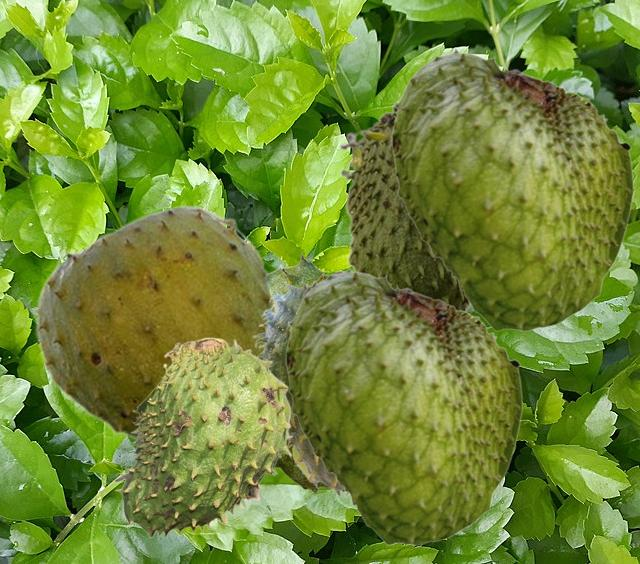guyabano: (391, 46, 633, 331), (285, 265, 522, 545), (30, 204, 274, 440), (113, 337, 292, 538), (339, 97, 470, 311), (252, 279, 348, 496), (268, 252, 343, 492)
